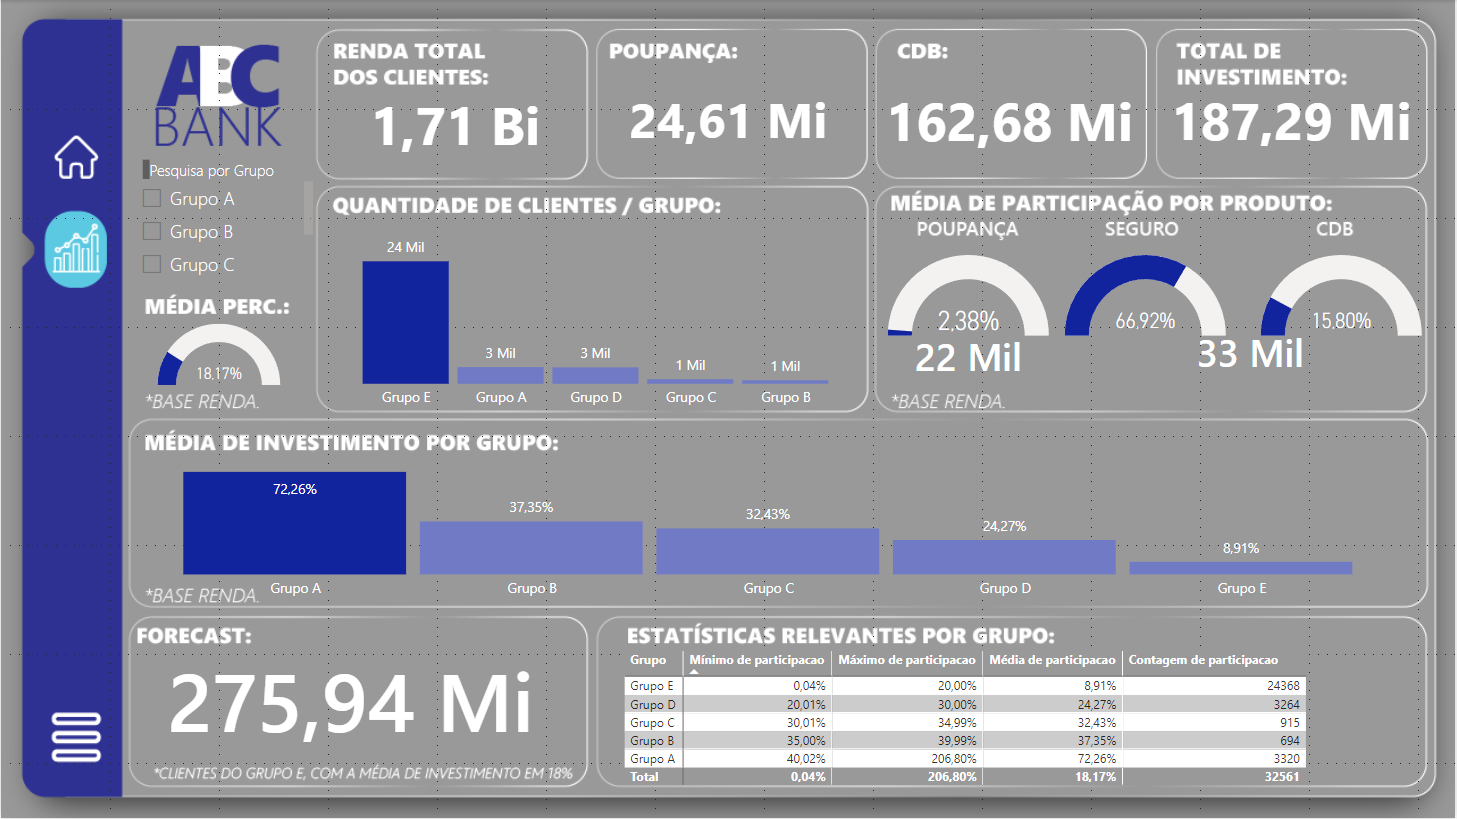

The dashboard page shown, as its layout file describes it:
{"tool":"powerbi","page":{"name":"Dashboard","canvas":[1280,720],"ordinal":1},"visuals":[{"type":"card","fields":{"Values":["Sheet1.soma_cdb"]},"box":[768,48,240,112],"z":0},{"type":"card","fields":{"Values":["Sheet1.Soma_projecao"]},"box":[96,528,424,168],"z":1000},{"type":"card","fields":{"Values":["Sheet1.soma_total_investido"]},"box":[1016,48,240,112],"z":2000},{"type":"clusteredColumnChart","fields":{"Category":["Sheet1.Grupo"],"Y":["CountNonNull(Sheet1.Grupo)"]},"box":[280,192,488,176],"z":3000},{"type":"gauge","fields":{"Y":["Avg(Sheet1.participacao)"]},"box":[104,280,176,64],"z":4000},{"type":"card","fields":{"Values":["Sum(Sheet1.seguro)"]},"box":[776.4,286.3,152,56],"z":5000},{"type":"gauge","fields":{"Y":["Sheet1.Participacao_seguro"]},"box":[932,184,152,152],"z":6000},{"type":"card","fields":{"Values":["Sum(Sheet1.renda)"]},"box":[280,48,240,120],"z":7000},{"type":"card","fields":{"Values":["Sum(Sheet1.poupanca)"]},"box":[528,48,224,112],"z":8000},{"type":"columnChart","fields":{"Y":["Avg(Sheet1.participacao)"],"Category":["Sheet1.Grupo"]},"box":[72,392,1208,144],"z":9000},{"type":"pivotTable","fields":{"Rows":["Sheet1.Grupo"],"Values":["Min(Sheet1.participacao)","Max(Sheet1.participacao)","Avg(Sheet1.participacao)1","CountNonNull(Sheet1.participacao)2"]},"box":[544,568,688,128],"z":10000},{"type":"slicer","fields":{"Values":["Sheet1.Grupo"]},"box":[112,136,168,112],"z":11000},{"type":"gauge","title":"Part. Cdb","fields":{"Y":["Avg(Sheet1.participacao_cdb)"]},"box":[1104,184,152,152],"z":12000},{"type":"gauge","title":"Part. Poupanca","fields":{"Y":["Avg(Sheet1.participacao_poupanca)"]},"box":[776,184,152,152],"z":13000},{"type":"card","fields":{"Values":["CountNonNull(Sheet1.participacao_cdb)"]},"box":[1016.4,278.3,168,64],"z":14000},{"type":"shape","box":[16,112,88,48],"z":14001}]}

Visuals, with their boxes in screenshot pixels (x1, y1, x2, y2), scaled from the page's 1280x720 canvas onto the 1457x819 screenshot:
card - Sheet1.soma_cdb: 874 55 1147 182
card - Sheet1.Soma_projecao: 109 601 592 792
card - Sheet1.soma_total_investido: 1156 55 1430 182
clusteredColumnChart - Sheet1.Grupo x CountNonNull(Sheet1.Grupo): 319 218 874 419
gauge - Avg(Sheet1.participacao): 118 318 319 391
card - Sum(Sheet1.seguro): 884 326 1057 389
gauge - Sheet1.Participacao_seguro: 1061 209 1234 382
card - Sum(Sheet1.renda): 319 55 592 191
card - Sum(Sheet1.poupanca): 601 55 856 182
columnChart - Avg(Sheet1.participacao) x Sheet1.Grupo: 82 446 1456 610
pivotTable - Sheet1.Grupo x Min(Sheet1.participacao): 619 646 1402 792
slicer - Sheet1.Grupo: 127 155 319 282
"Part. Cdb" gauge: 1257 209 1430 382
"Part. Poupanca" gauge: 883 209 1056 382
card - CountNonNull(Sheet1.participacao_cdb): 1157 317 1348 389
shape: 18 127 118 182
